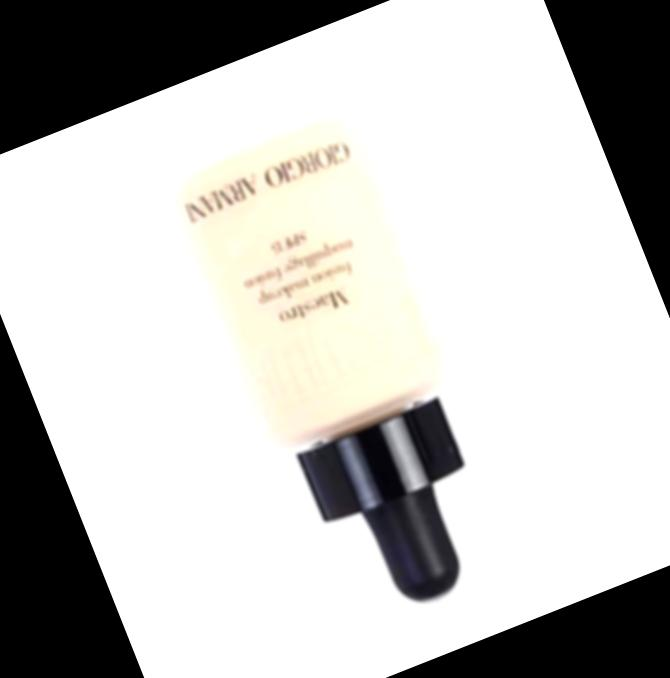cosmetic: (137, 71, 550, 644)
